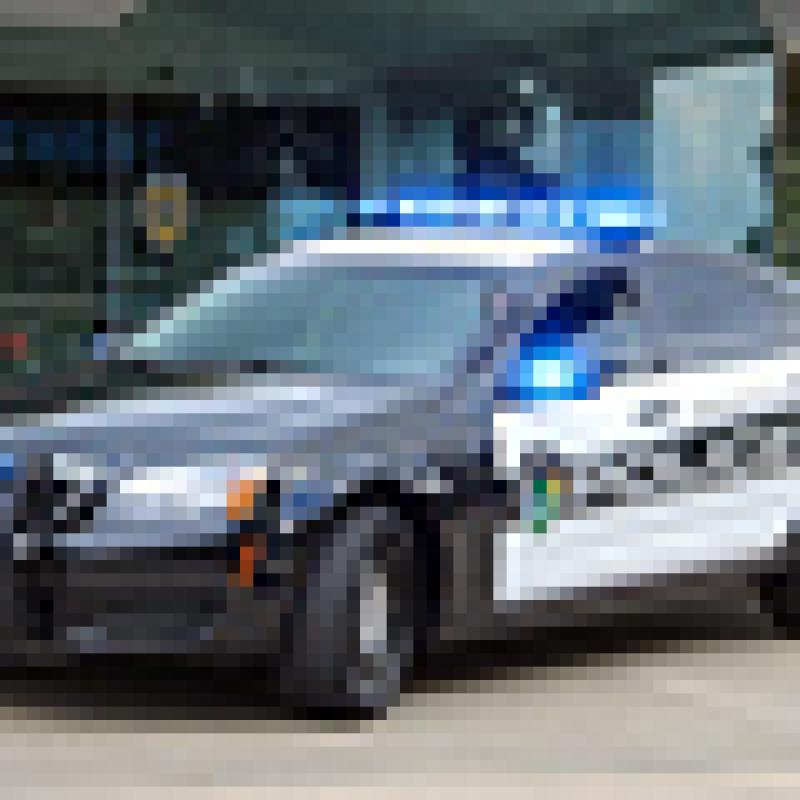AmbulanceSiren: (330, 181, 645, 247)
